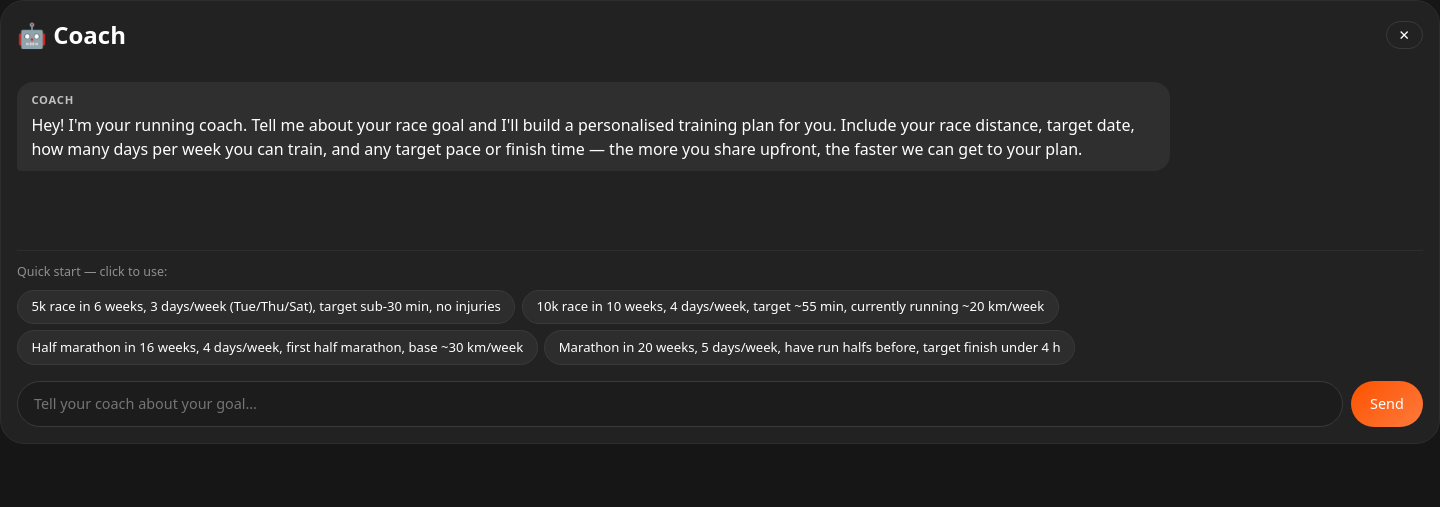
CoachPlanWizard › renders the proposed plan card when the coach returns a create_plan action
Step 1. Type "Go" into the field with placeholder "Tell your coach about your goal…" → (680, 404), box [17,381,1343,427]
Then press Enter
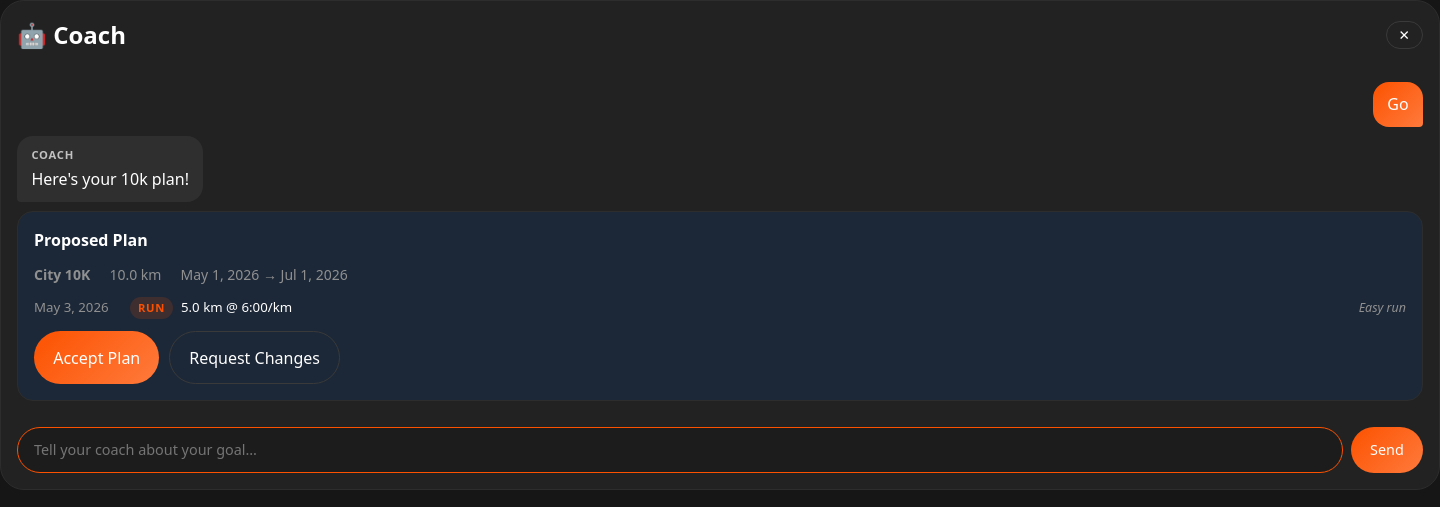
Result: the heading "Proposed Plan" is shown at [34,229,148,251]
Result: the text "City 10K" is shown at [34,265,90,284]
Result: the button "Accept Plan" is shown at [34,331,159,384]
